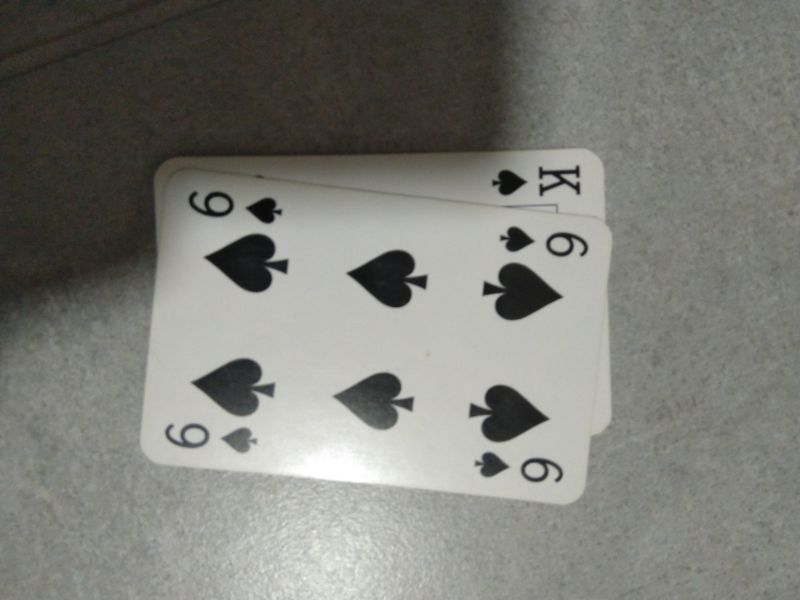6s: (183, 182, 287, 226), (159, 416, 261, 458), (470, 448, 566, 490), (495, 221, 590, 263)
Ks: (486, 158, 586, 200)
